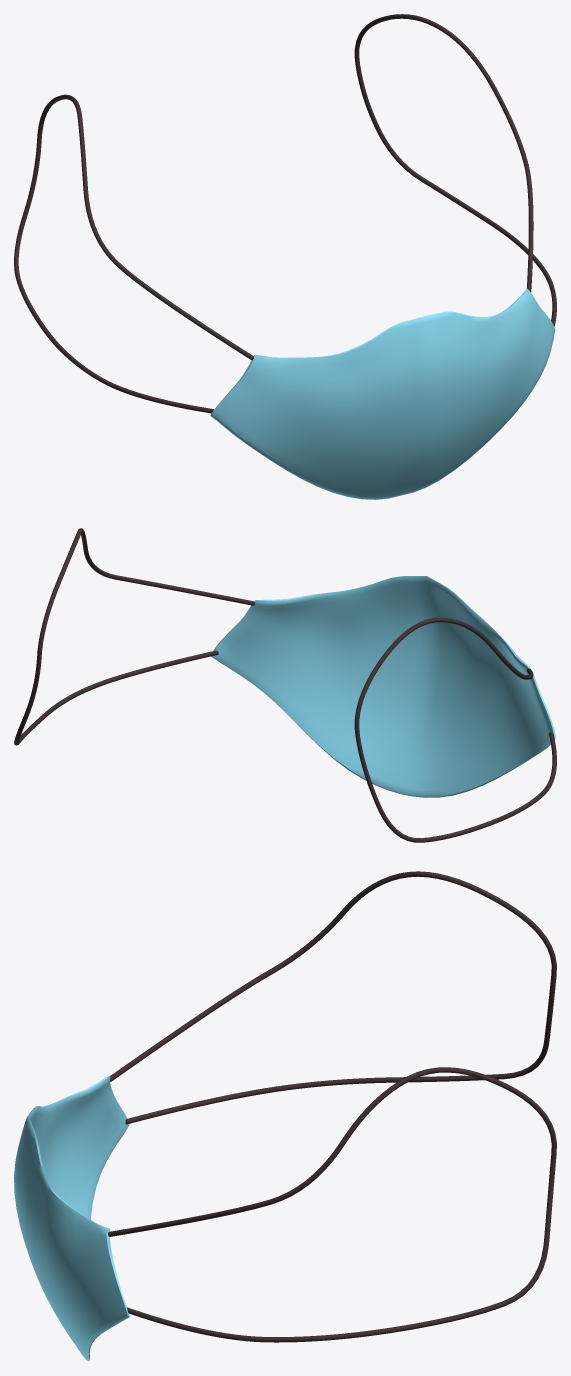
The model's file is BlueCOVID.gltf.
The picture shows the model from 3 angles, top to bottom: view 1: azimuth 30°, elevation 25°; view 2: azimuth 150°, elevation 25°; view 3: azimuth 270°, elevation 25°; orthographic projection. The views are drawn at different scales.
Visible parts, largest first — view 1: mouth13-PBR, mouth13-PBR.1; view 2: mouth13-PBR, mouth13-PBR.1; view 3: mouth13-PBR, mouth13-PBR.1.
Boxes of the visible parts, x1=… form: mouth13-PBR: x1=210, y1=288, x2=555, y2=499; mouth13-PBR.1: x1=14, y1=14, x2=556, y2=413; mouth13-PBR: x1=211, y1=576, x2=555, y2=797; mouth13-PBR.1: x1=14, y1=528, x2=556, y2=842; mouth13-PBR: x1=14, y1=1076, x2=129, y2=1361; mouth13-PBR.1: x1=108, y1=871, x2=556, y2=1342.
Bounding box in the file's own units: 8.34 × 5.68 × 7.45.
